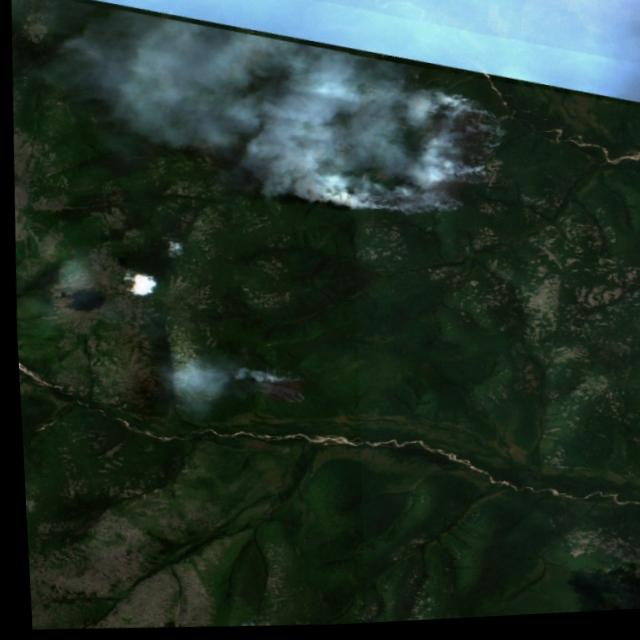fire: (286, 82, 502, 230), (244, 366, 304, 415)
